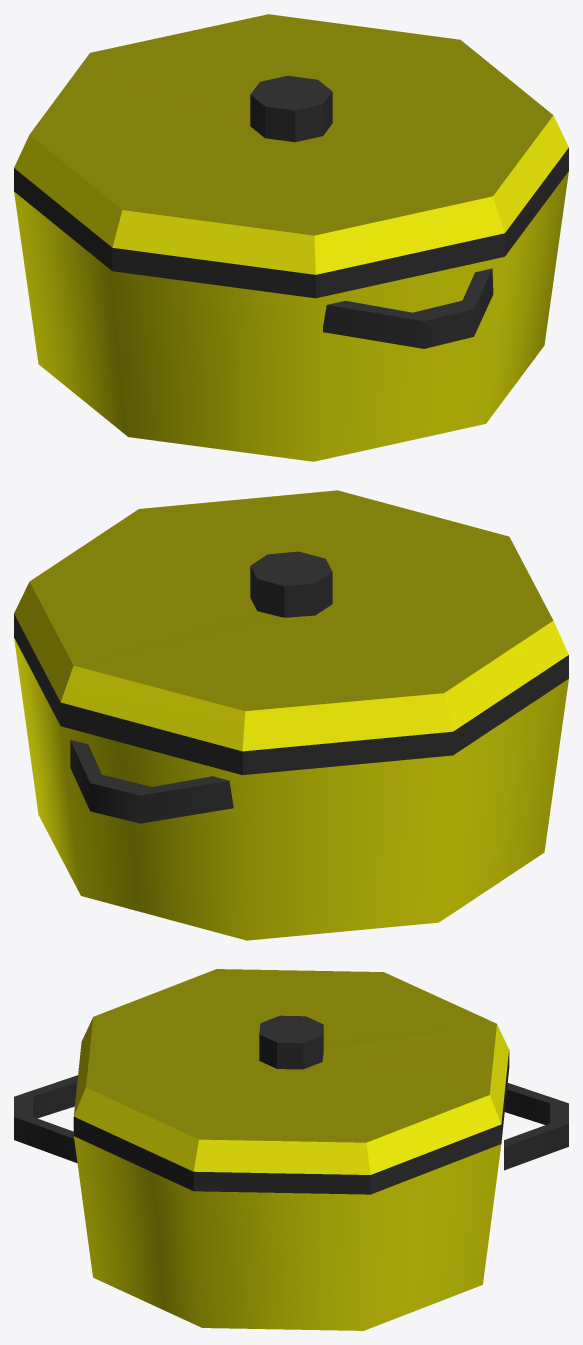
Rendered from Pot2.fbx.
3 views of the same model, one above another, from view 1: azimuth 30°, elevation 25°; view 2: azimuth 150°, elevation 25°; view 3: azimuth 270°, elevation 25° (orthographic). The views are drawn at different scales.
Parts seen in each view (by area): view 1: Pot2_Door, Pot2; view 2: Pot2_Door, Pot2; view 3: Pot2_Door, Pot2.
Part boxes in pixels (bbox=[...]): Pot2_Door: bbox=[14, 14, 568, 298]; Pot2: bbox=[14, 171, 568, 461]; Pot2_Door: bbox=[14, 490, 568, 775]; Pot2: bbox=[14, 638, 568, 940]; Pot2_Door: bbox=[73, 969, 509, 1194]; Pot2: bbox=[14, 1075, 568, 1330].
Bounding box in the file's own units: 36.44 × 20.11 × 46.46.
